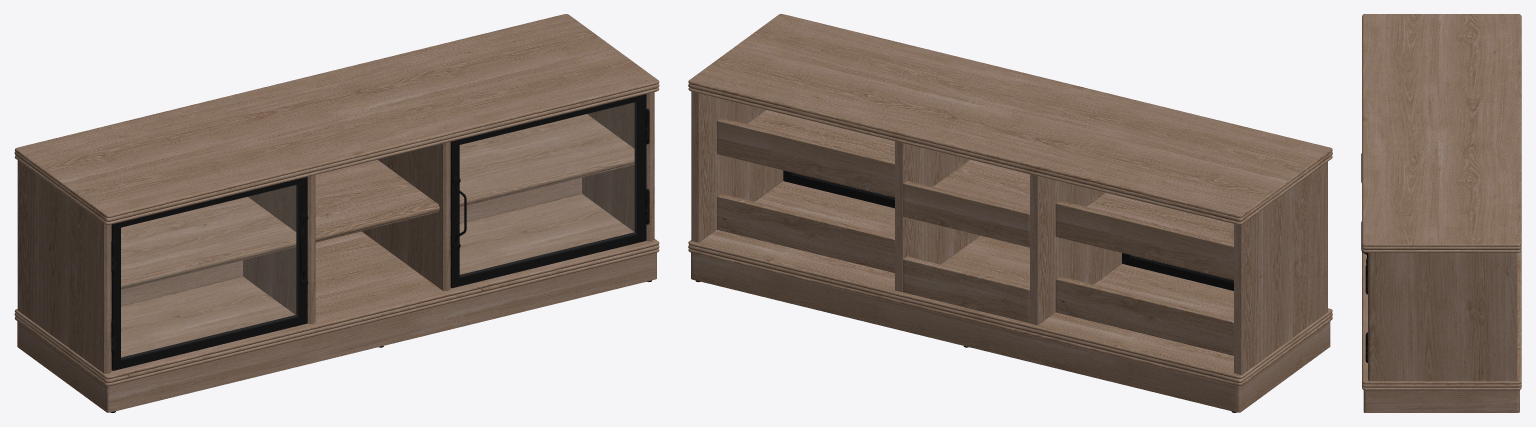
The picture shows the model from 3 angles, left to right: view 1: azimuth 30°, elevation 25°; view 2: azimuth 150°, elevation 25°; view 3: azimuth 270°, elevation 25°; orthographic projection. The views are drawn at different scales.
Parts seen in each view (by area): view 1: Mesh_0; view 2: Mesh_0; view 3: Mesh_0.
Boxes of the visible parts, <box> form: Mesh_0: <box>14,14,659,412</box>; Mesh_0: <box>688,14,1332,412</box>; Mesh_0: <box>1361,14,1521,412</box>.
Bounding box in the file's own units: 1.61 × 0.5541 × 0.4717.
Materials: 5 (1 with a texture image).
